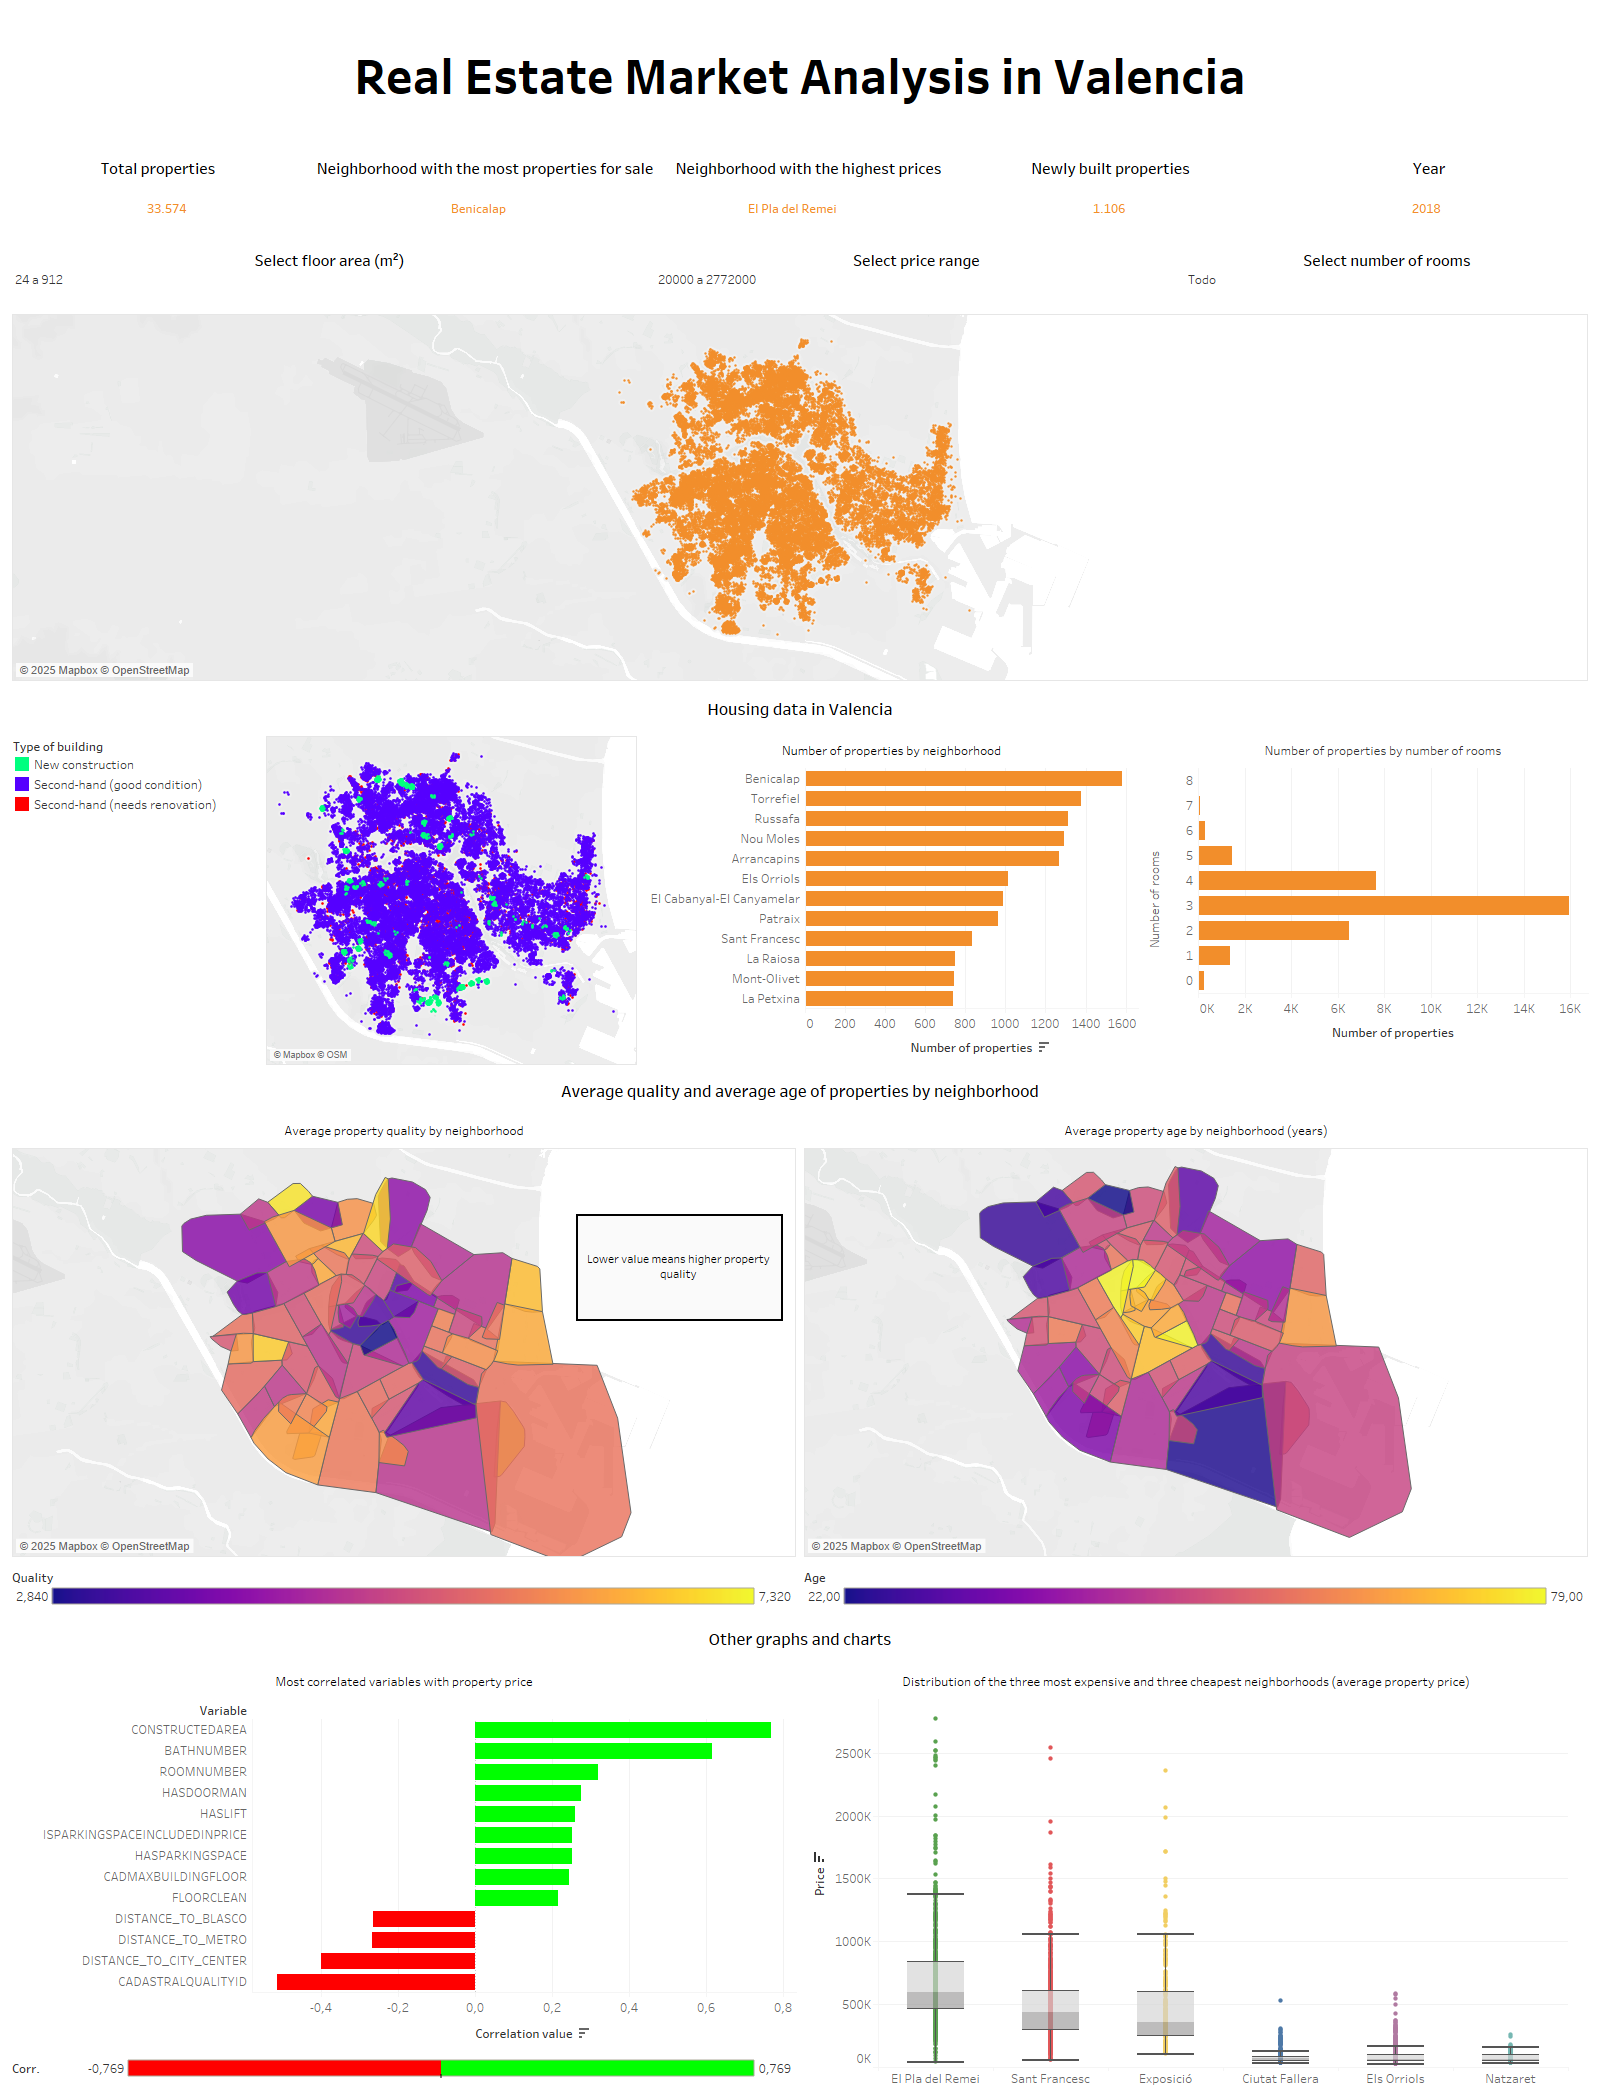

The dashboard page shown, as its layout file describes it:
{"tool":"tableau","page":{"name":"Dashboard","canvas":[1600,2100],"ordinal":0},"visuals":[{"type":"text","box":[8,8,1584,133]},{"type":"text","box":[8,141,300,54.2]},{"type":"text","box":[308,141,354,54.2]},{"type":"text","box":[662,141,293.4,54.2]},{"type":"text","box":[955.4,141,310.8,54.2]},{"type":"text","box":[1266.1,141,325.9,54.2]},{"type":"worksheet","title":"Total properties","mark":"Automatic","box":[127,195.2,316,28]},{"type":"worksheet","title":"Neighborhood with the most properties for sale","mark":"Automatic","box":[443,195.2,297,49.9]},{"type":"worksheet","title":"Neighborhood with the highest prices","mark":"Automatic","box":[740,195.2,326,49.9]},{"type":"worksheet","title":"Newly built properties","mark":"Automatic","box":[1066,195.2,338,49.9]},{"type":"worksheet","title":"Year","mark":"Automatic","box":[1404,195.2,188,49.9]},{"type":"filter","title":"Map with filters","param":"[federated.01wox3a1hftdn416vt8zw0xytzj2].[none:CONSTRUCTEDAREA:qk]","box":[8,245,642.8,65]},{"type":"filter","title":"Map with filters","param":"[federated.01wox3a1hftdn416vt8zw0xytzj2].[none:PRICE:qk]","box":[650.8,245,530.9,65]},{"type":"filter","title":"Map with filters","param":"[federated.01wox3a1hftdn416vt8zw0xytzj2].[none:ROOMNUMBER:ok]","box":[1181.8,245,410.2,65]},{"type":"worksheet","title":"Map with filters","mark":"Automatic","rows":["LATITUDE"],"cols":["LONGITUDE"],"box":[8,310,1584,375]},{"type":"text","box":[8,685,1584,47]},{"type":"legend","title":"Type of building","param":"[federated.01wox3a1hftdn416vt8zw0xytzj2].[none:BUILDTYPE:nk]","box":[8,732,254,337]},{"type":"worksheet","title":"Type of building","mark":"Automatic","rows":["LATITUDE"],"cols":["LONGITUDE"],"box":[262,732,379,337]},{"type":"worksheet","title":"NºInmuebles/Barrio","mark":"Automatic","rows":["NEIGHBORHOOD (valencia!polygons)"],"cols":["REAL_ESTATE_TOTAL"],"box":[641,732,501,337]},{"type":"text","box":[1142,732,32,337]},{"type":"worksheet","title":"Number of properties by number of rooms","mark":"Automatic","rows":["ROOMNUMBER"],"cols":["ROOMNUMBER"],"box":[1174,732,418,337]},{"type":"text","box":[8,1069,1584,43]},{"type":"worksheet","title":"Average quality of properties by neighborhood","mark":"Automatic","box":[8,1112,792,449]},{"type":"worksheet","title":"Average age of properties by neighborhood","mark":"Automatic","box":[800,1112,792,449]},{"type":"legend","title":"Average quality of properties by neighborhood","param":"[federated.01wox3a1hftdn416vt8zw0xytzj2].[sum:QUALITY_MEAN:qk]","box":[8,1561,792,53]},{"type":"legend","title":"Average age of properties by neighborhood","param":"[federated.01wox3a1hftdn416vt8zw0xytzj2].[avg:AGE_MEAN:qk]","box":[800,1561,792,53]},{"type":"text","box":[8,1614,1584,49]},{"type":"worksheet","title":"Corr. Price","mark":"Automatic","rows":["Variable"],"cols":["Correlation"],"box":[8,1663,792,389]},{"type":"worksheet","title":"Box. Precio avg barrio","mark":"Circle","rows":["PRICE"],"cols":["NEIGHBORHOOD"],"box":[800,1663,792,429]},{"type":"legend","title":"Corr. Price","param":"[federated.01wox3a1hftdn416vt8zw0xytzj2].[sum:Correlation:qk]","box":[8,2052,792,40]}]}

Visuals, with their boxes in screenshot pixels (x1, y1, x2, y2), scaled from the page's 1600x2100 canvas onto the 1600x2100 screenshot:
text: (8,8,1592,141)
text: (8,141,308,195)
text: (308,141,662,195)
text: (662,141,955,195)
text: (955,141,1266,195)
text: (1266,141,1592,195)
"Total properties" worksheet: (127,195,443,223)
"Neighborhood with the most properties for sale" worksheet: (443,195,740,245)
"Neighborhood with the highest prices" worksheet: (740,195,1066,245)
"Newly built properties" worksheet: (1066,195,1404,245)
"Year" worksheet: (1404,195,1592,245)
"Map with filters" filter: (8,245,651,310)
"Map with filters" filter: (651,245,1182,310)
"Map with filters" filter: (1182,245,1592,310)
"Map with filters" worksheet: (8,310,1592,685)
text: (8,685,1592,732)
"Type of building" legend: (8,732,262,1069)
"Type of building" worksheet: (262,732,641,1069)
"NºInmuebles/Barrio" worksheet: (641,732,1142,1069)
text: (1142,732,1174,1069)
"Number of properties by number of rooms" worksheet: (1174,732,1592,1069)
text: (8,1069,1592,1112)
"Average quality of properties by neighborhood" worksheet: (8,1112,800,1561)
"Average age of properties by neighborhood" worksheet: (800,1112,1592,1561)
"Average quality of properties by neighborhood" legend: (8,1561,800,1614)
"Average age of properties by neighborhood" legend: (800,1561,1592,1614)
text: (8,1614,1592,1663)
"Corr. Price" worksheet: (8,1663,800,2052)
"Box. Precio avg barrio" worksheet (Circle marks): (800,1663,1592,2092)
"Corr. Price" legend: (8,2052,800,2092)
